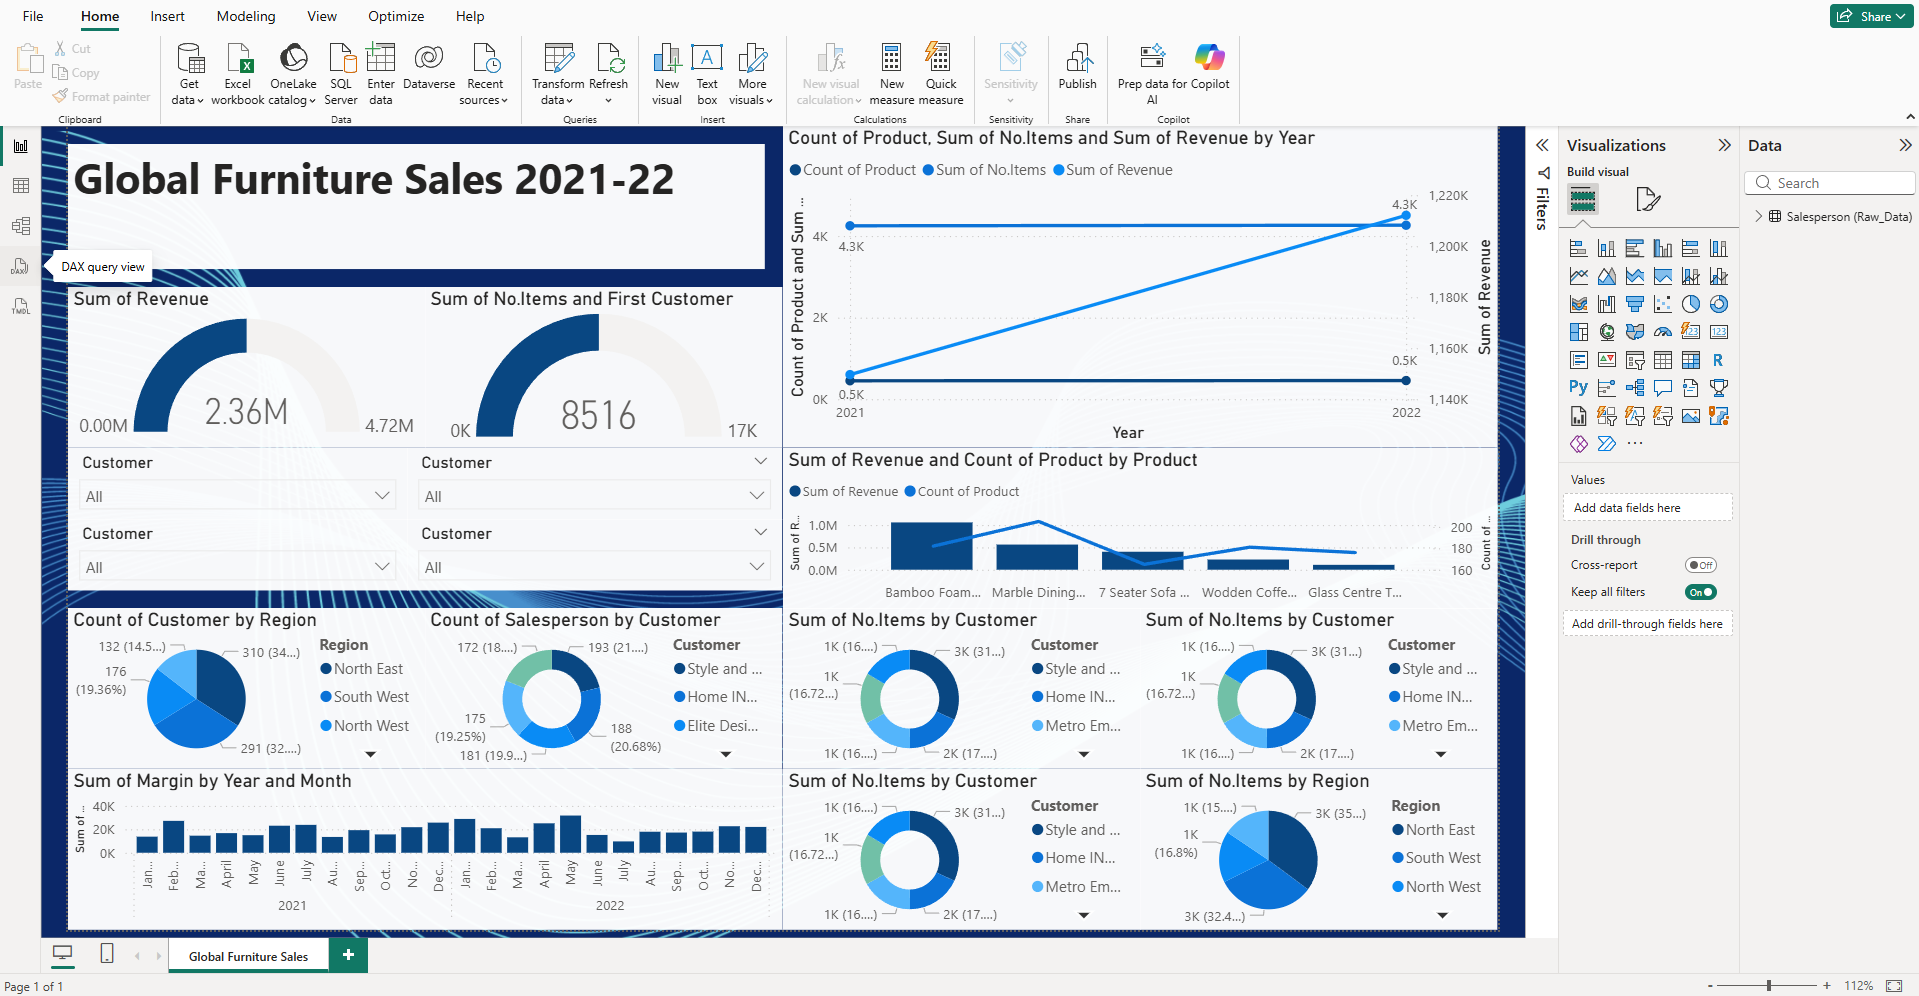

Layout of this report page (visuals, bound fields, positions):
{"tool":"powerbi","page":{"name":"Page 1","canvas":[1280,720],"ordinal":0},"visuals":[{"type":"textbox","box":[0,16,624,112],"z":0},{"type":"clusteredColumnChart","fields":{"Y":["Sum(Salesperson (Raw_Data).Margin)"],"Category":["Salesperson (Raw_Data).Date.Variation.Date Hierarchy.Year","Salesperson (Raw_Data).Date.Variation.Date Hierarchy.Month"]},"box":[0,576,640,144],"z":1000},{"type":"donutChart","fields":{"Category":["Salesperson (Raw_Data).Customer"],"Y":["Sum(Salesperson (Raw_Data).No.Items)"]},"box":[640,576,320,144],"z":2000},{"type":"pieChart","fields":{"Category":["Salesperson (Raw_Data).Region"],"Y":["Sum(Salesperson (Raw_Data).No.Items)"]},"box":[960,576,320,144],"z":3000},{"type":"pieChart","fields":{"Y":["CountNonNull(Salesperson (Raw_Data).Customer)"],"Category":["Salesperson (Raw_Data).Region"]},"box":[0,432,320,144],"z":4000},{"type":"donutChart","fields":{"Category":["Salesperson (Raw_Data).Customer"],"Y":["CountNonNull(Salesperson (Raw_Data).Salesperson)"]},"box":[320,432,320,144],"z":5000},{"type":"donutChart","fields":{"Category":["Salesperson (Raw_Data).Customer"],"Y":["Sum(Salesperson (Raw_Data).No.Items)"]},"box":[960,432,320,144],"z":6000},{"type":"lineClusteredColumnComboChart","fields":{"Category":["Salesperson (Raw_Data).Product"],"Y":["Sum(Salesperson (Raw_Data).Revenue)"],"Y2":["CountNonNull(Salesperson (Raw_Data).Product)"]},"box":[640,288,640,144],"z":7000},{"type":"slicer","fields":{"Values":["Salesperson (Raw_Data).Customer"]},"box":[0,352,304,64],"z":8000},{"type":"slicer","fields":{"Values":["Salesperson (Raw_Data).Customer"]},"box":[304,352,336,64],"z":9000},{"type":"lineChart","fields":{"Category":["Salesperson (Raw_Data).Date.Variation.Date Hierarchy.Year","Salesperson (Raw_Data).Date.Variation.Date Hierarchy.Month"],"Y2":["Sum(Salesperson (Raw_Data).Revenue)"],"Y":["CountNonNull(Salesperson (Raw_Data).Product)","Sum(Salesperson (Raw_Data).No.Items)"]},"box":[640,0,640,288],"z":10000},{"type":"gauge","fields":{"Y":["Sum(Salesperson (Raw_Data).Revenue)"]},"box":[0,144,320,144],"z":11000},{"type":"gauge","fields":{"Y":["Sum(Salesperson (Raw_Data).No.Items)"]},"box":[320,144,320,144],"z":12000},{"type":"slicer","fields":{"Values":["Salesperson (Raw_Data).Customer"]},"box":[0,288,304,64],"z":13000},{"type":"slicer","fields":{"Values":["Salesperson (Raw_Data).Customer"]},"box":[304,288,336,64],"z":14000},{"type":"donutChart","fields":{"Category":["Salesperson (Raw_Data).Customer"],"Y":["Sum(Salesperson (Raw_Data).No.Items)"]},"box":[640,432,320,144],"z":15000}]}

Visuals, with their boxes on the page's 1280x720 design canvas (x1, y1, x2, y2). These are canvas units, not pixel positions in the 1919x996 screenshot, which may show the page scaled, cropped or inside an application window:
textbox: (x1=0, y1=16, x2=624, y2=128)
clusteredColumnChart - Sum(Salesperson (Raw_Data).Margin) x Salesperson (Raw_Data).Date.Variation.Date Hierarchy.Year: (x1=0, y1=576, x2=640, y2=720)
donutChart - Salesperson (Raw_Data).Customer x Sum(Salesperson (Raw_Data).No.Items): (x1=640, y1=576, x2=960, y2=720)
pieChart - Salesperson (Raw_Data).Region x Sum(Salesperson (Raw_Data).No.Items): (x1=960, y1=576, x2=1280, y2=720)
pieChart - CountNonNull(Salesperson (Raw_Data).Customer) x Salesperson (Raw_Data).Region: (x1=0, y1=432, x2=320, y2=576)
donutChart - Salesperson (Raw_Data).Customer x CountNonNull(Salesperson (Raw_Data).Salesperson): (x1=320, y1=432, x2=640, y2=576)
donutChart - Salesperson (Raw_Data).Customer x Sum(Salesperson (Raw_Data).No.Items): (x1=960, y1=432, x2=1280, y2=576)
lineClusteredColumnComboChart - Salesperson (Raw_Data).Product x Sum(Salesperson (Raw_Data).Revenue): (x1=640, y1=288, x2=1280, y2=432)
slicer - Salesperson (Raw_Data).Customer: (x1=0, y1=352, x2=304, y2=416)
slicer - Salesperson (Raw_Data).Customer: (x1=304, y1=352, x2=640, y2=416)
lineChart - Salesperson (Raw_Data).Date.Variation.Date Hierarchy.Year x Salesperson (Raw_Data).Date.Variation.Date Hierarchy.Month: (x1=640, y1=0, x2=1280, y2=288)
gauge - Sum(Salesperson (Raw_Data).Revenue): (x1=0, y1=144, x2=320, y2=288)
gauge - Sum(Salesperson (Raw_Data).No.Items): (x1=320, y1=144, x2=640, y2=288)
slicer - Salesperson (Raw_Data).Customer: (x1=0, y1=288, x2=304, y2=352)
slicer - Salesperson (Raw_Data).Customer: (x1=304, y1=288, x2=640, y2=352)
donutChart - Salesperson (Raw_Data).Customer x Sum(Salesperson (Raw_Data).No.Items): (x1=640, y1=432, x2=960, y2=576)
